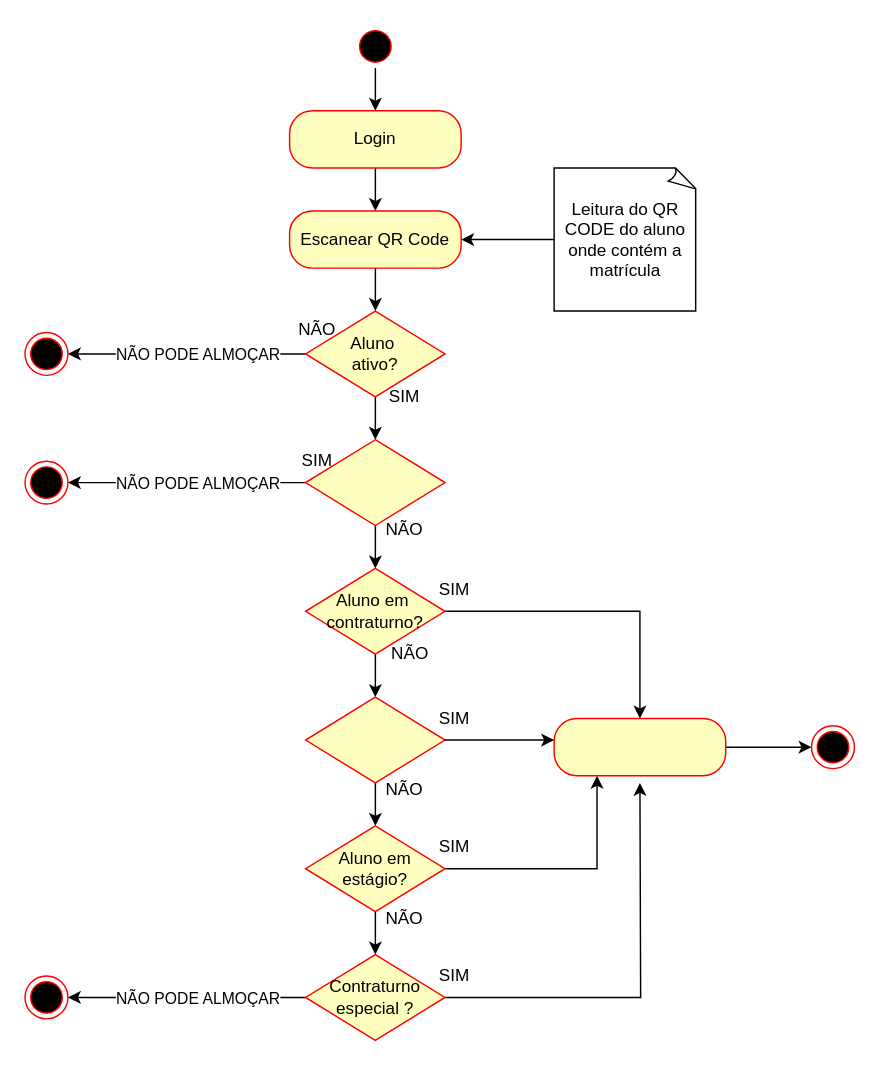
This 879x1065 diagram has some shape labels left out. Each missing label, with the box of its shape:
Aluno em projeto?: (304, 696, 445, 783)
Aluno já almoçou?: (304, 438, 445, 526)
Registrar Refeição: (553, 717, 726, 776)
